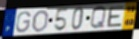0: (71, 7, 86, 32)
5: (53, 7, 70, 32)
E: (107, 5, 126, 28)
G: (15, 10, 32, 34)
O: (31, 9, 50, 33)
Q: (89, 5, 107, 31)
